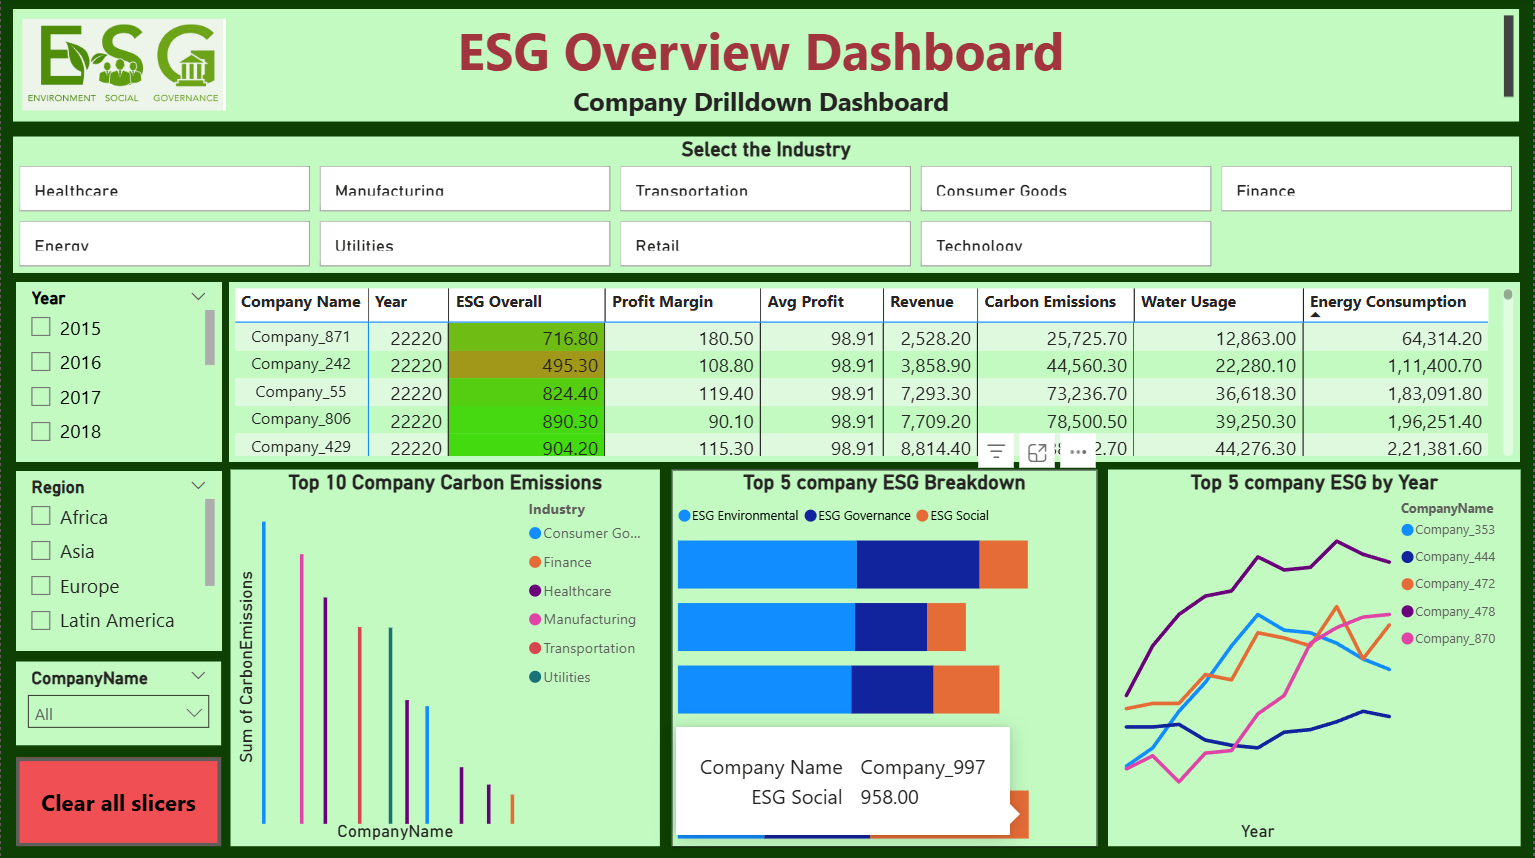

Layout of this report page (visuals, bound fields, positions):
{"tool":"powerbi","page":{"name":"Company Drilldown View","canvas":[1280,720],"ordinal":1},"visuals":[{"type":"textbox","box":[10.6,10.6,1258.3,94],"z":0},{"type":"image","box":[12.1,7.6,180.2,98.4],"z":1000},{"type":"advancedSlicerVisual","title":"Select the Industry ","fields":{"Values":["new_esg_project company_esg.Industry"]},"box":[10.6,116.7,1258.3,113.7],"z":2000},{"type":"slicer","fields":{"Values":["new_esg_project company_esg.Year"]},"box":[12.1,238,171.3,150.1],"z":3000},{"type":"slicer","fields":{"Values":["new_esg_project company_esg.Region"]},"box":[12.1,395.7,171.3,150.1],"z":4000},{"type":"slicer","fields":{"Values":["new_esg_project company_esg.CompanyName"]},"box":[12.1,554.9,171.3,69.7],"z":5000},{"type":"actionButton","box":[12.1,635.2,171.3,74.3],"z":6000},{"type":"pivotTable","fields":{"Rows":["new_esg_project company_esg.CompanyName"],"Values":["Sum(new_esg_project company_esg.Year)","Sum(new_esg_project company_esg.ESG_Overall)","Sum(new_esg_project company_esg.ProfitMargin)","Sum(new_esg_project avg_avgprofit_by_industry.AvgProfit)","Sum(new_esg_project company_esg.Revenue)","Sum(new_esg_project company_esg.CarbonEmissions)","Sum(new_esg_project company_esg.WaterUsage)","Sum(new_esg_project company_esg.EnergyConsumption)"]},"box":[191,238,1077.9,150.1],"z":7000},{"type":"clusteredColumnChart","title":"Top 10 Company Carbon Emissions","fields":{"Category":["new_esg_project company_esg.CompanyName"],"Y":["Sum(new_esg_project company_esg.CarbonEmissions)"],"Series":["new_esg_project company_esg.Industry"]},"box":[191.3,395.2,358.9,314.6],"z":8000},{"type":"barChart","title":"Top 5 company ESG Breakdown","fields":{"Category":["new_esg_project company_esg.CompanyName"],"Y":["Sum(new_esg_project company_esg.ESG_Environmental)","Sum(new_esg_project company_esg.ESG_Governance)","Sum(new_esg_project company_esg.ESG_Social)"]},"box":[559.6,395.2,355.7,314.6],"z":9000},{"type":"lineChart","title":"Top 5 company ESG by Year","fields":{"Category":["new_esg_project company_esg.Year"],"Y":["Sum(new_esg_project company_esg.ESG_Overall)"],"Series":["new_esg_project company_esg.CompanyName"]},"box":[924.8,395.2,344.6,314.6],"z":10000}]}

Visuals, with their boxes in screenshot pixels (x1, y1, x2, y2), scaled from the page's 1280x720 canvas onto the 1535x858 screenshot:
textbox: 13:13:1522:125
image: 15:9:231:126
"Select the Industry " advancedSlicerVisual: 13:139:1522:275
slicer - new_esg_project company_esg.Year: 15:284:220:462
slicer - new_esg_project company_esg.Region: 15:472:220:650
slicer - new_esg_project company_esg.CompanyName: 15:661:220:744
actionButton: 15:757:220:845
pivotTable - new_esg_project company_esg.CompanyName x Sum(new_esg_project company_esg.Year): 229:284:1522:462
"Top 10 Company Carbon Emissions" clusteredColumnChart: 229:471:660:846
"Top 5 company ESG Breakdown" barChart: 671:471:1098:846
"Top 5 company ESG by Year" lineChart: 1109:471:1522:846
